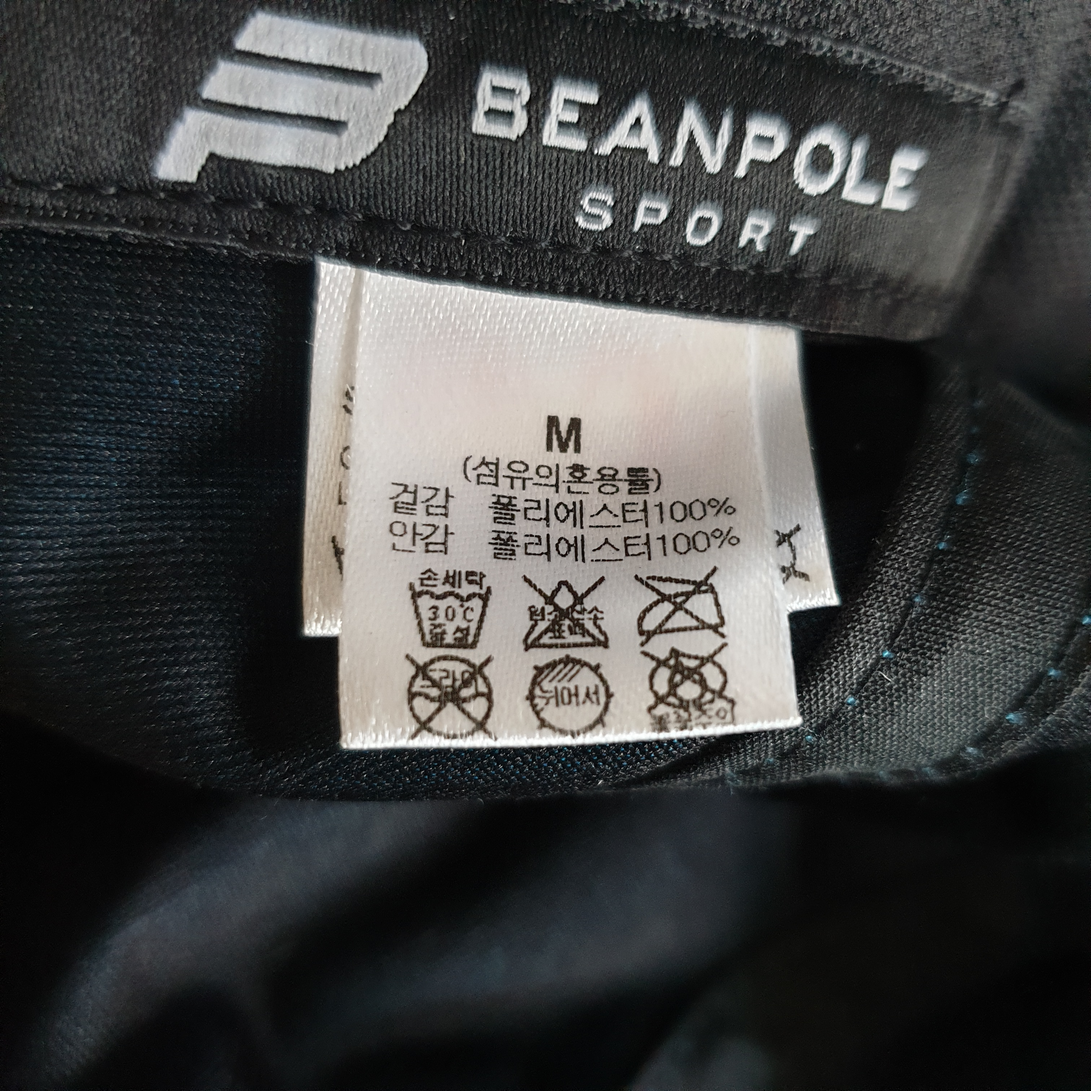KR_flat_dry_in_shade: (519, 653, 619, 737)
KR_hand_wash_30_neutral: (405, 563, 494, 653)
KR_no_bleach: (520, 573, 610, 654)
KR_no_dry_clean: (398, 647, 500, 743)
KR_no_iron: (627, 565, 737, 640)
